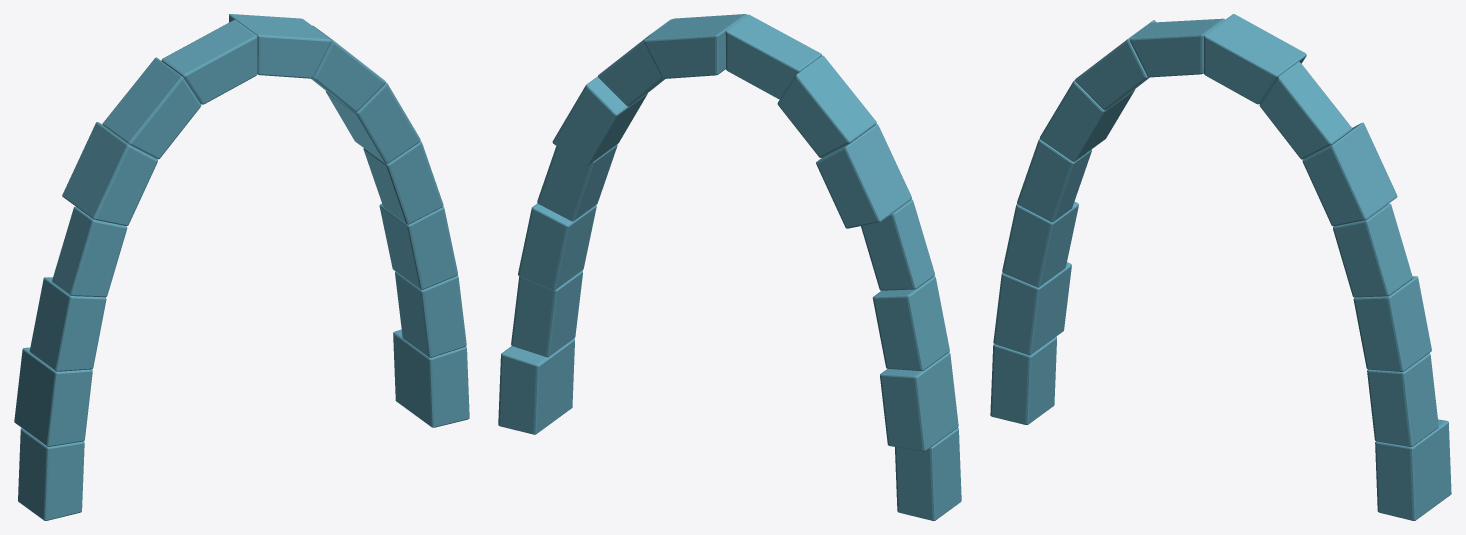
File: Portal3D.fbx
3 views of the same model, side by side, from view 1: azimuth 30°, elevation 25°; view 2: azimuth 150°, elevation 25°; view 3: azimuth 330°, elevation 25° (orthographic).
Parts seen in each view (by area): view 1: Cube; view 2: Cube; view 3: Cube.
Boxes of the visible parts, bbox=[...] form: Cube: bbox=[14, 14, 469, 520]; Cube: bbox=[498, 14, 961, 520]; Cube: bbox=[990, 14, 1451, 520].
Size of the model in its own units: 714 by 697 by 109.
